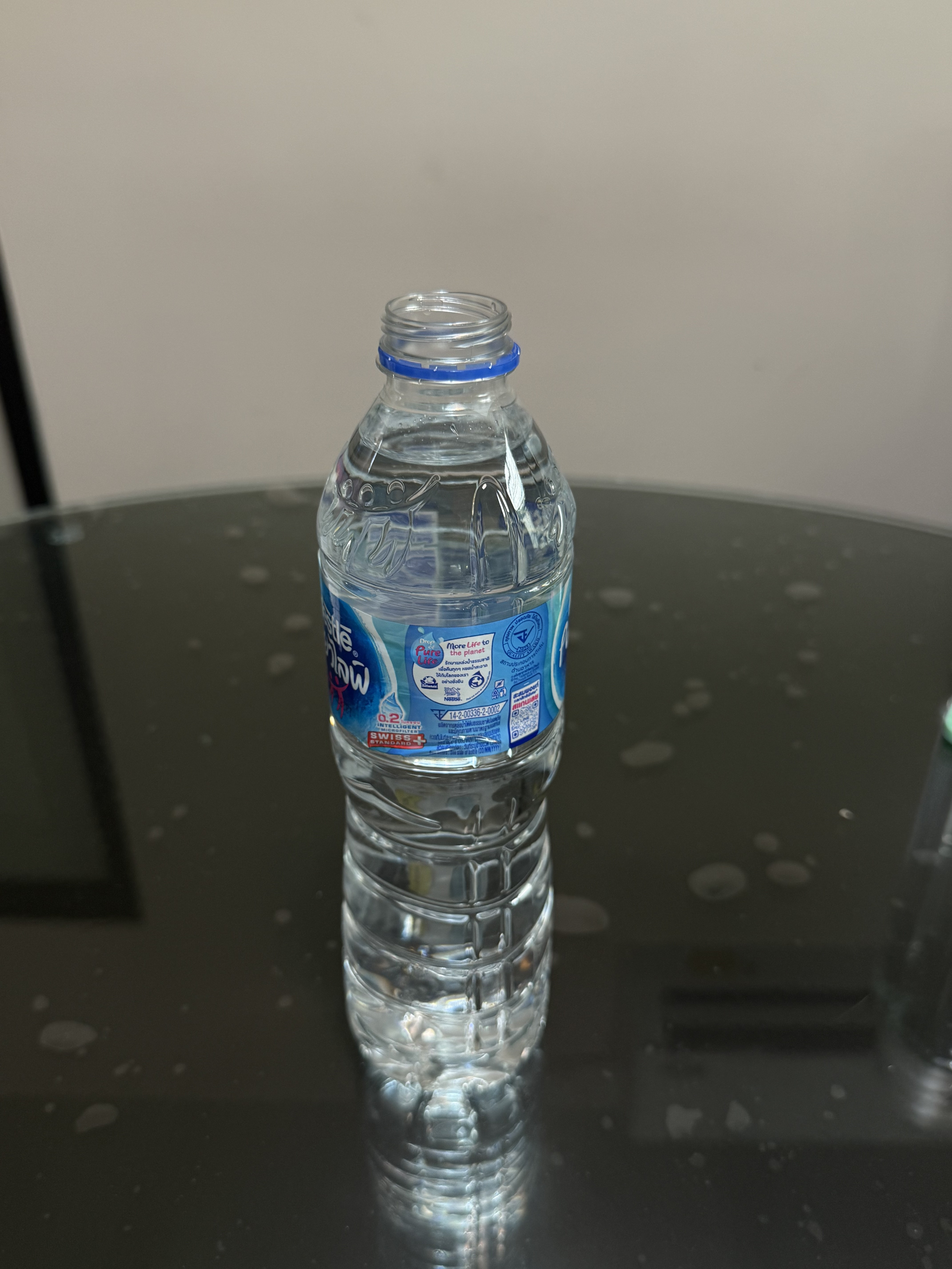no_cap: (375, 287, 522, 384)
